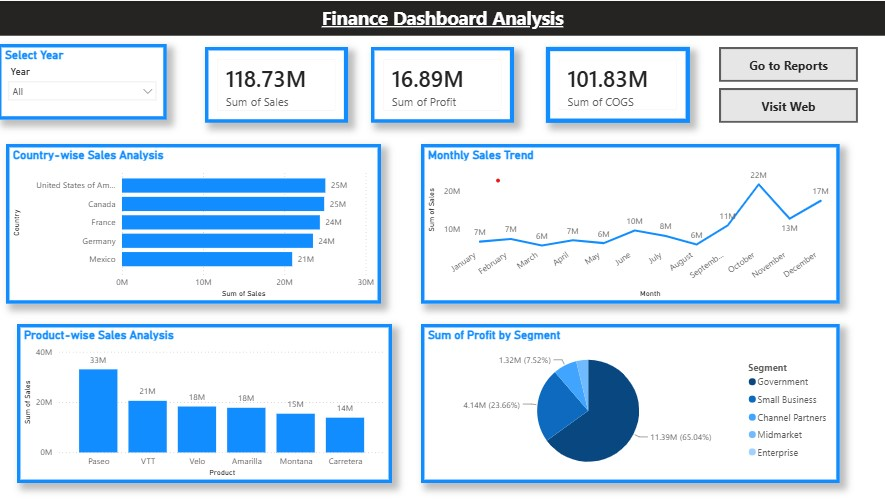

What the dashboard file says about the page in this screenshot:
{"tool":"powerbi","page":{"name":"Q 9","canvas":[1280,720],"ordinal":9},"visuals":[{"type":"cardVisual","fields":{"Data":["Sum(Sheet1. Sales)"]},"box":[298.1,66.2,205.9,109.4],"z":0},{"type":"cardVisual","fields":{"Data":["Sum(Sheet1.COGS)"]},"box":[789.1,66.2,207.4,109.4],"z":1000},{"type":"cardVisual","fields":{"Data":["Sum(Sheet1.Profit)"]},"box":[537.1,66.2,205.9,109.4],"z":2000},{"type":"textbox","box":[0,0,1280.2,50.4],"z":3000},{"type":"clusteredBarChart","title":"Country-wise Sales Analysis","fields":{"Category":["Sheet1.Country"],"Y":["Sum(Sheet1. Sales)"]},"box":[11.5,205.9,540,230.4],"z":4000},{"type":"lineChart","title":"Monthly Sales Trend","fields":{"Category":["Sheet1.Date.Variation.Date Hierarchy.Month"],"Y":["Sum(Sheet1. Sales)"]},"box":[609.1,205.9,603.4,230.4],"z":5000},{"type":"slicer","title":"Select Year","fields":{"Values":["Sheet1.Date.Variation.Date Hierarchy.Year"]},"box":[0,61.9,243.4,109.4],"z":6000},{"type":"actionButton","box":[1038.2,66.2,200.2,50.4],"z":7000},{"type":"actionButton","box":[1038.2,125.3,200.2,50.4],"z":8000},{"type":"clusteredColumnChart","title":"Product-wise Sales Analysis","fields":{"Category":["Sheet1.Product"],"Y":["Sum(Sheet1. Sales)"]},"box":[27.4,465.1,540,229],"z":8001},{"type":"pieChart","fields":{"Category":["Sheet1.Segment"],"Y":["Sum(Sheet1.Profit)"]},"box":[609.1,465.1,603.4,229],"z":8002}]}

Visuals, with their boxes in screenshot pixels (x1, y1, x2, y2), scaled from the page's 1280x720 canvas onto the 885x500 screenshot:
cardVisual - Sum(Sheet1. Sales): [left=206, top=46, right=348, bottom=122]
cardVisual - Sum(Sheet1.COGS): [left=546, top=46, right=689, bottom=122]
cardVisual - Sum(Sheet1.Profit): [left=371, top=46, right=514, bottom=122]
textbox: [left=0, top=0, right=884, bottom=35]
"Country-wise Sales Analysis" clusteredBarChart: [left=8, top=143, right=381, bottom=303]
"Monthly Sales Trend" lineChart: [left=421, top=143, right=838, bottom=303]
"Select Year" slicer: [left=0, top=43, right=168, bottom=119]
actionButton: [left=718, top=46, right=856, bottom=81]
actionButton: [left=718, top=87, right=856, bottom=122]
"Product-wise Sales Analysis" clusteredColumnChart: [left=19, top=323, right=392, bottom=482]
pieChart - Sheet1.Segment x Sum(Sheet1.Profit): [left=421, top=323, right=838, bottom=482]
